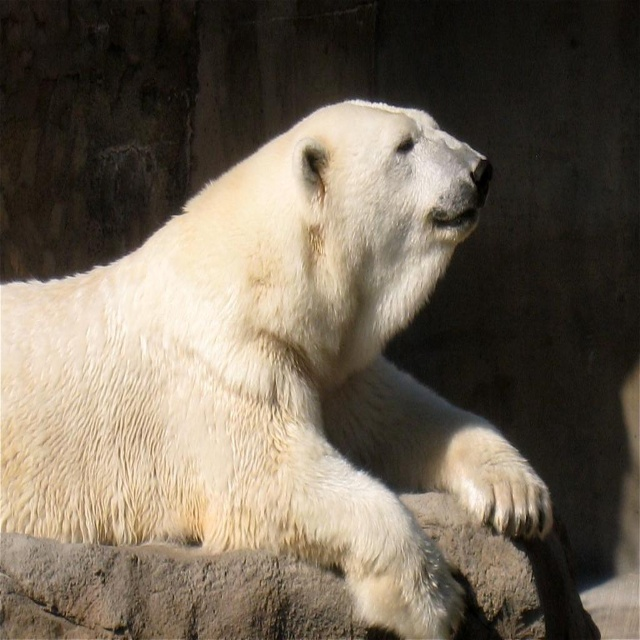Polar bear: (0, 94, 554, 639)
